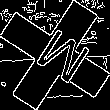M_SW: (22, 21, 88, 89)
